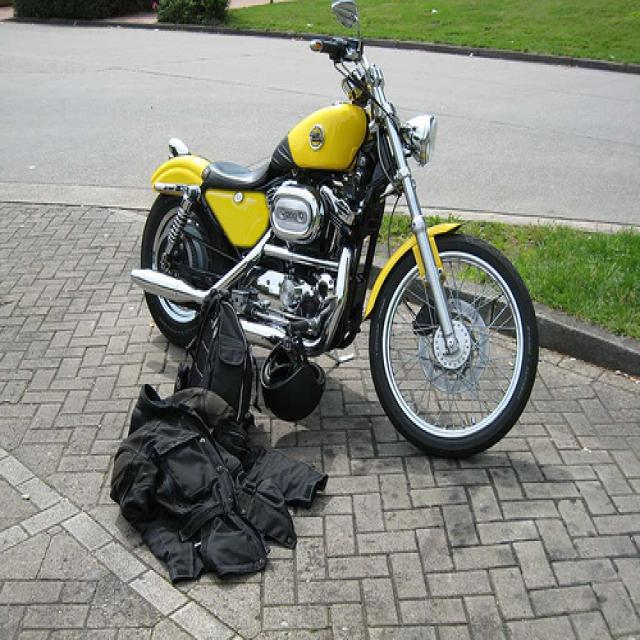motorbike: (128, 1, 542, 462)
